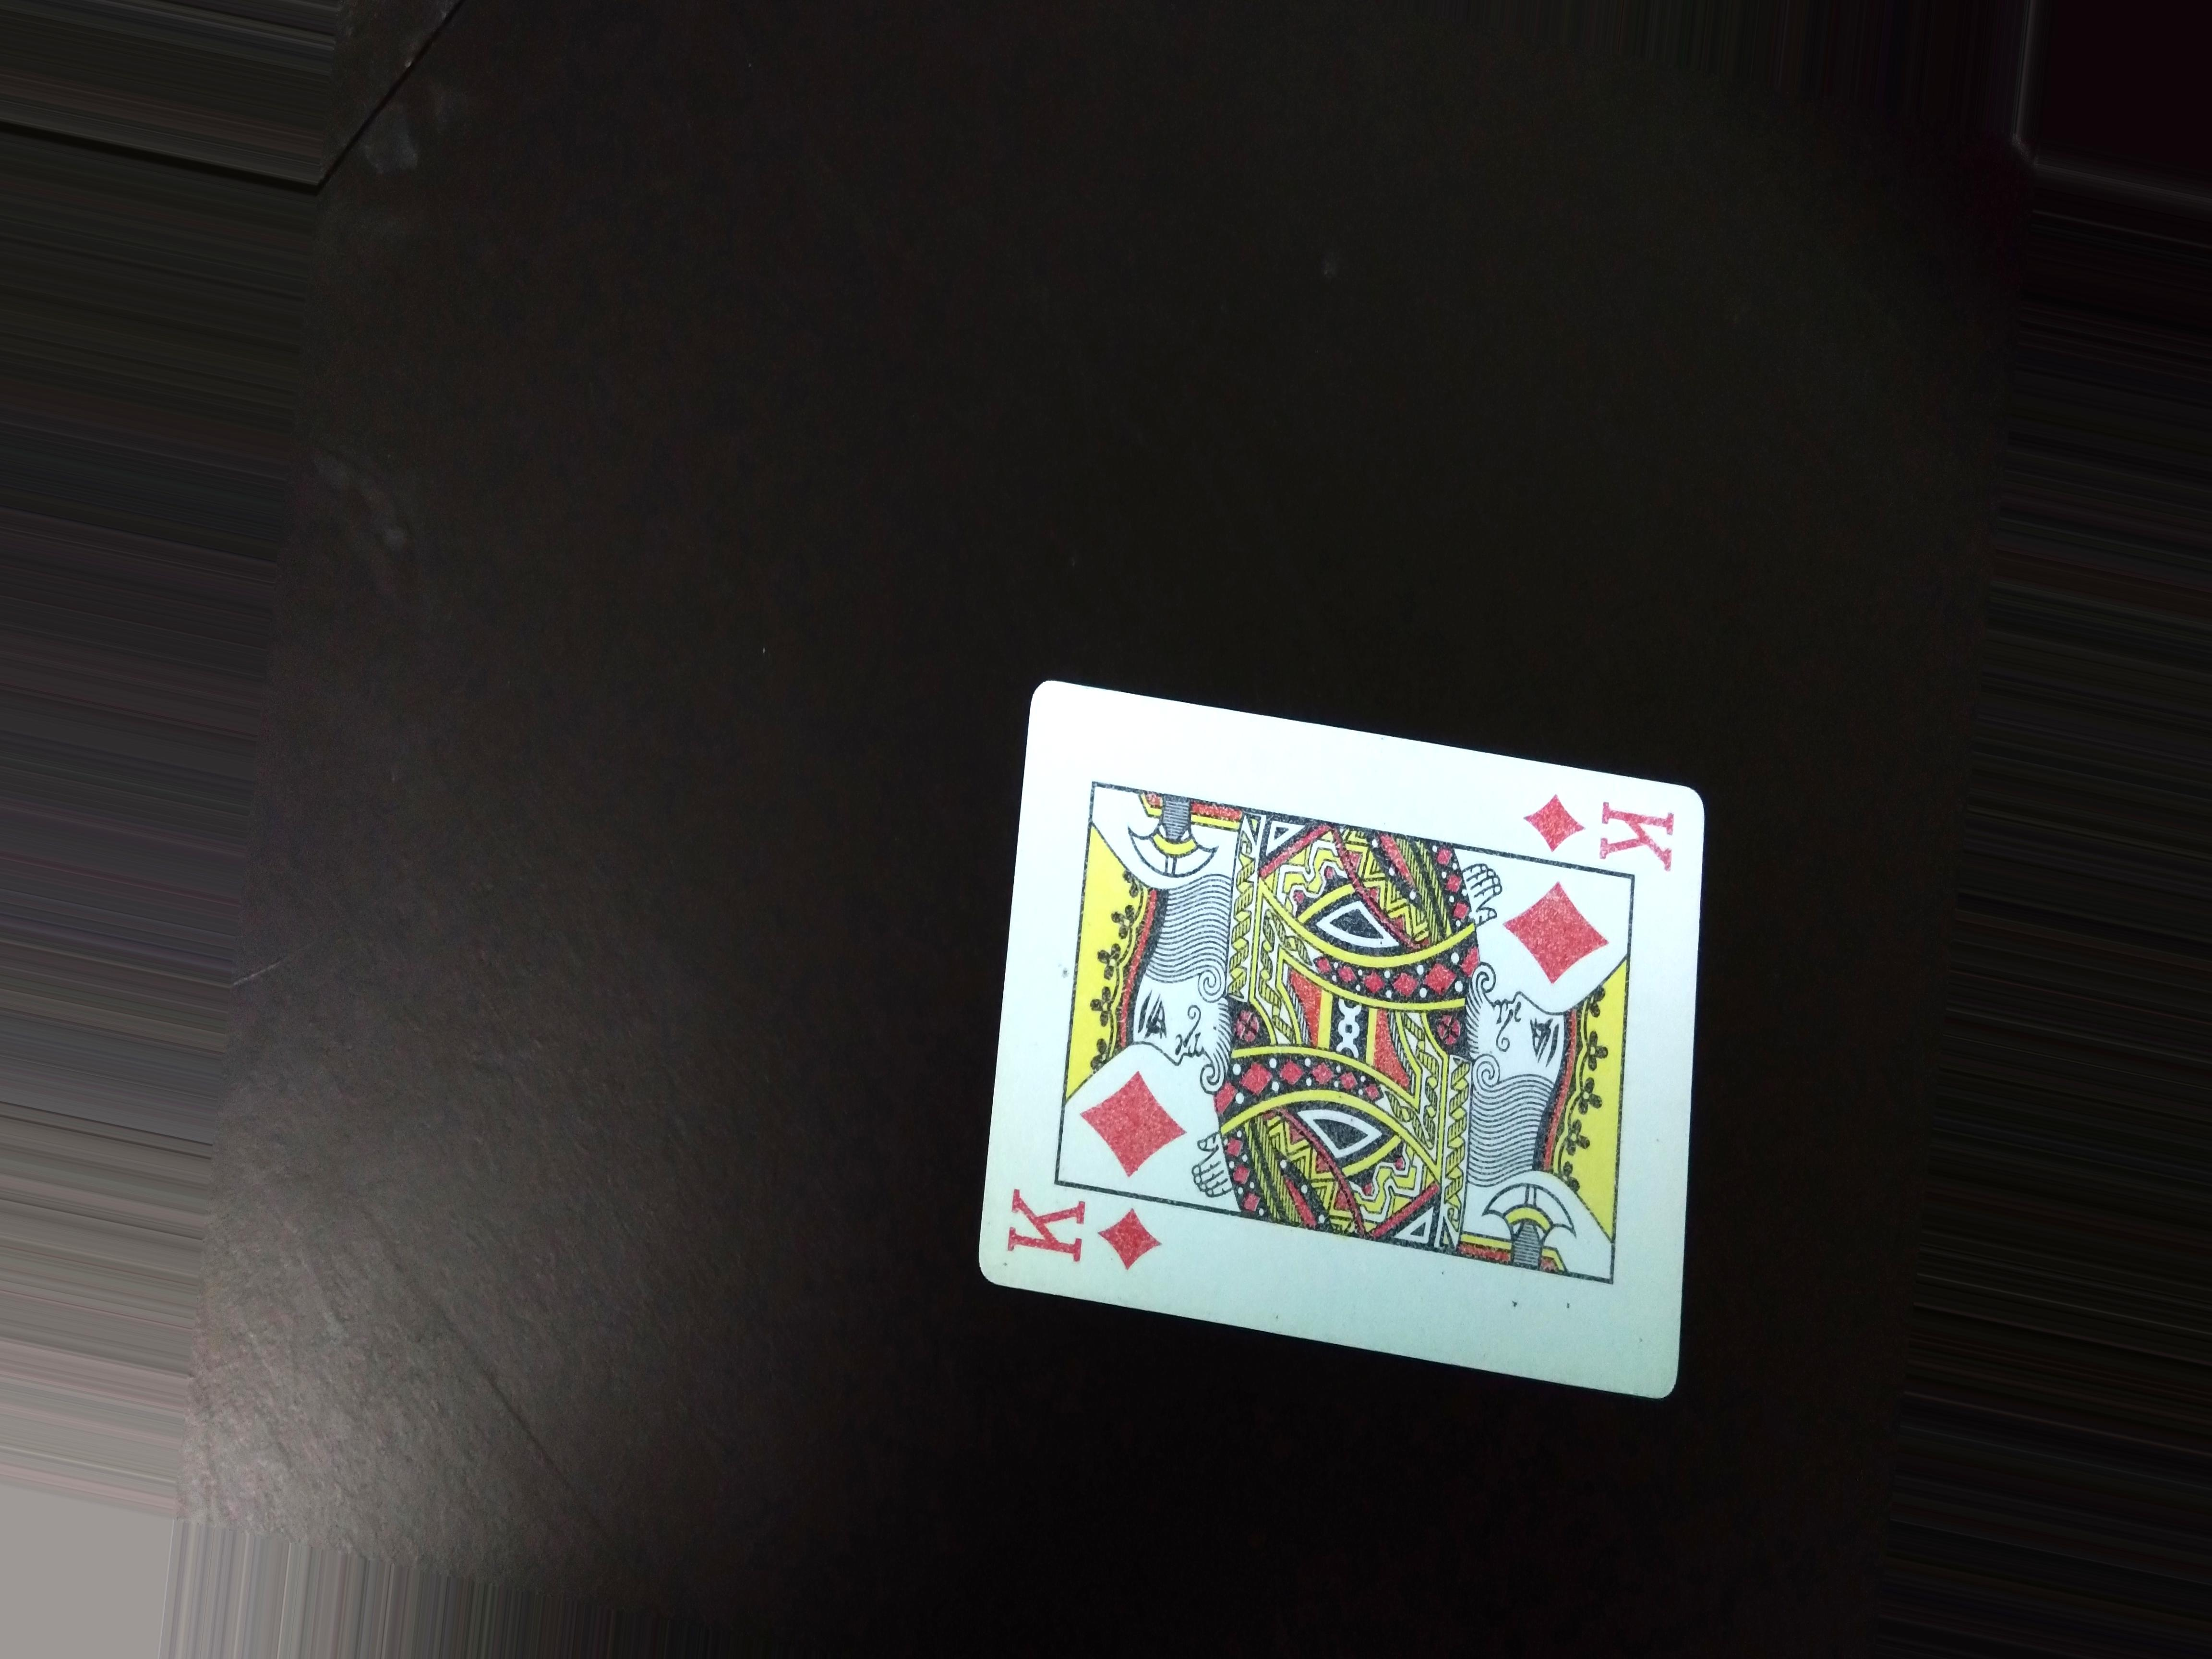KD: (1529, 789, 1679, 863)
